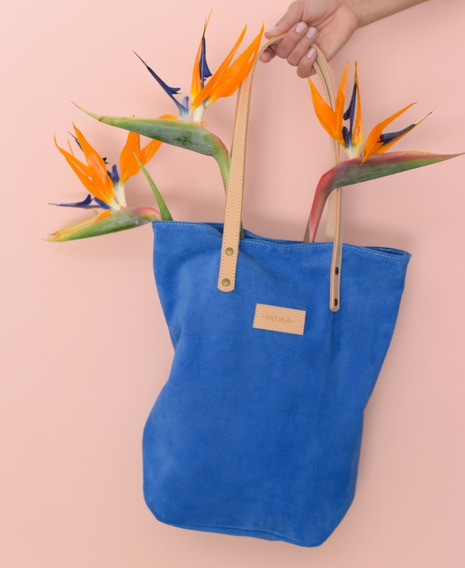cartera: (140, 30, 411, 548)
